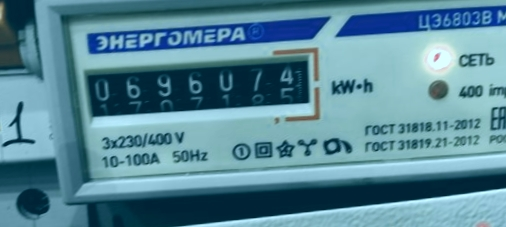0: (87, 75, 108, 101), (214, 65, 231, 92)
4: (275, 61, 292, 86)
5: (276, 85, 292, 103)
6: (120, 71, 140, 99), (182, 69, 200, 94)
7: (243, 64, 262, 91)
9: (150, 71, 170, 97)
screen: (68, 41, 324, 136)
